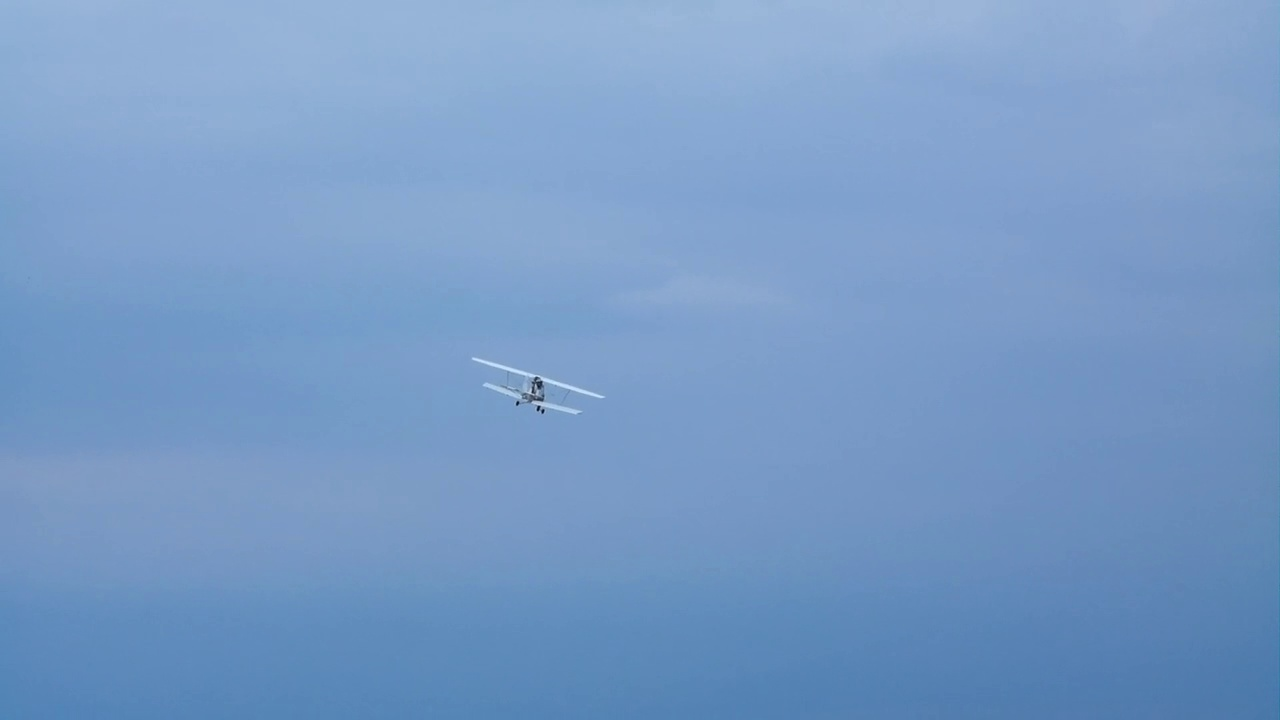plane: (473, 354, 604, 416)
